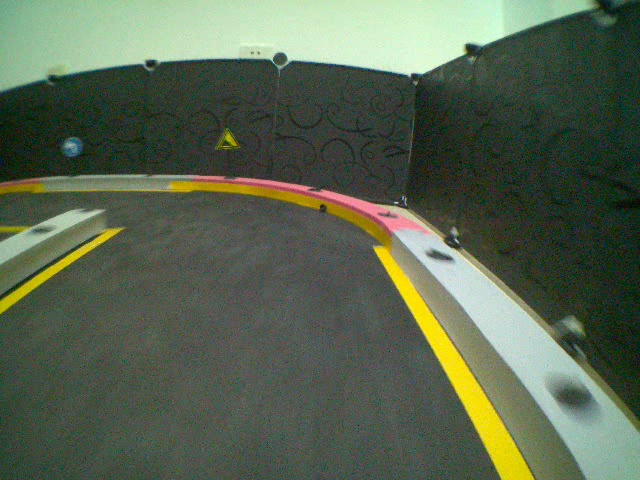fast: (214, 127, 240, 150)
turn: (59, 136, 82, 159)
